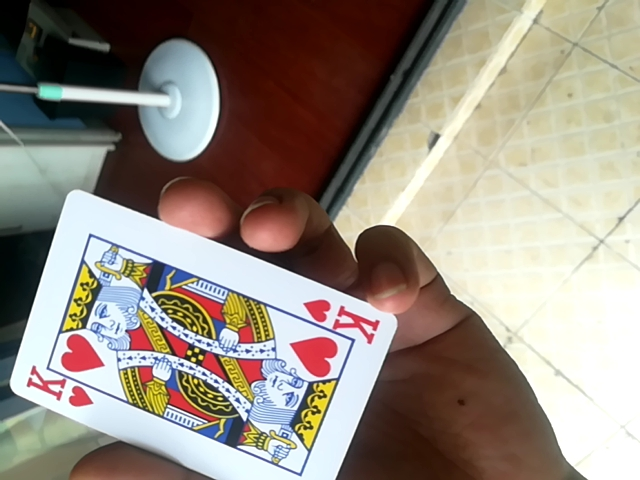hx k: (11, 185, 392, 480)
